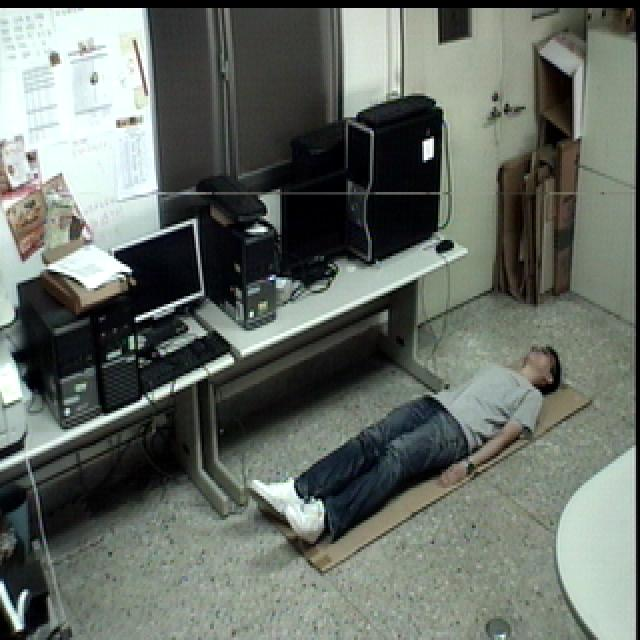lie: (235, 330, 567, 556)
